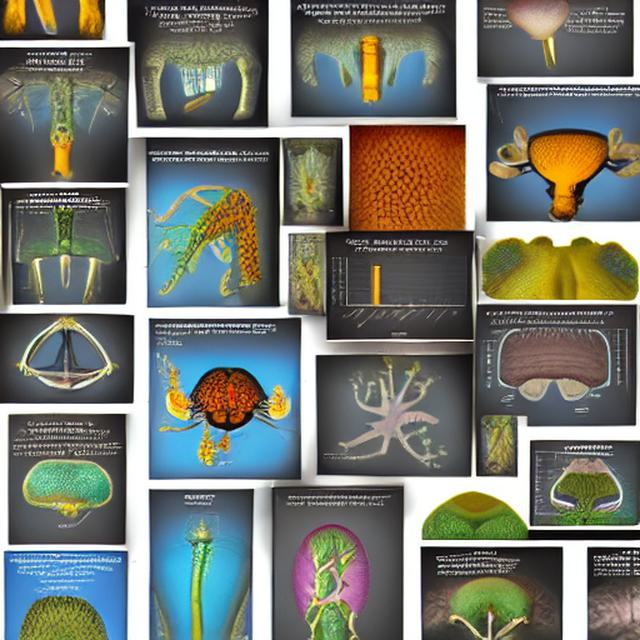Graph: (328, 235, 467, 340)
